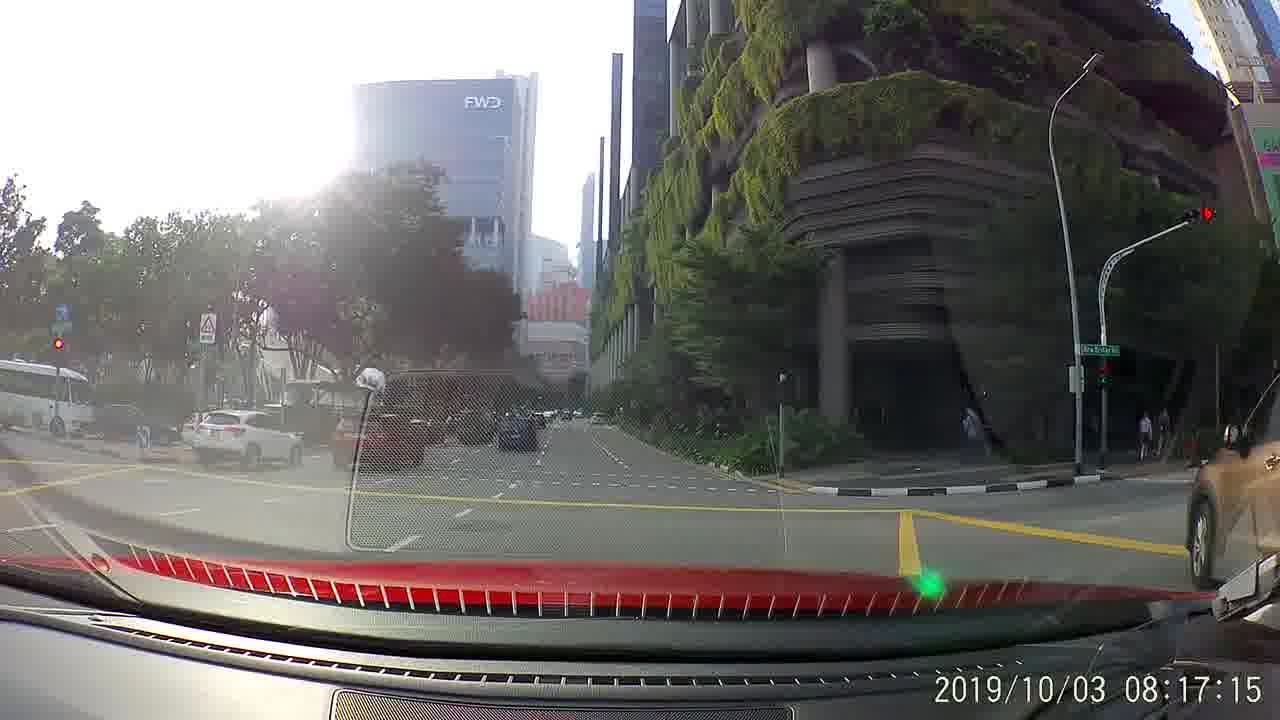bus: (1, 359, 97, 442)
car: (1185, 371, 1278, 594), (189, 404, 308, 474), (328, 410, 431, 474), (99, 401, 184, 447), (496, 417, 541, 456)
